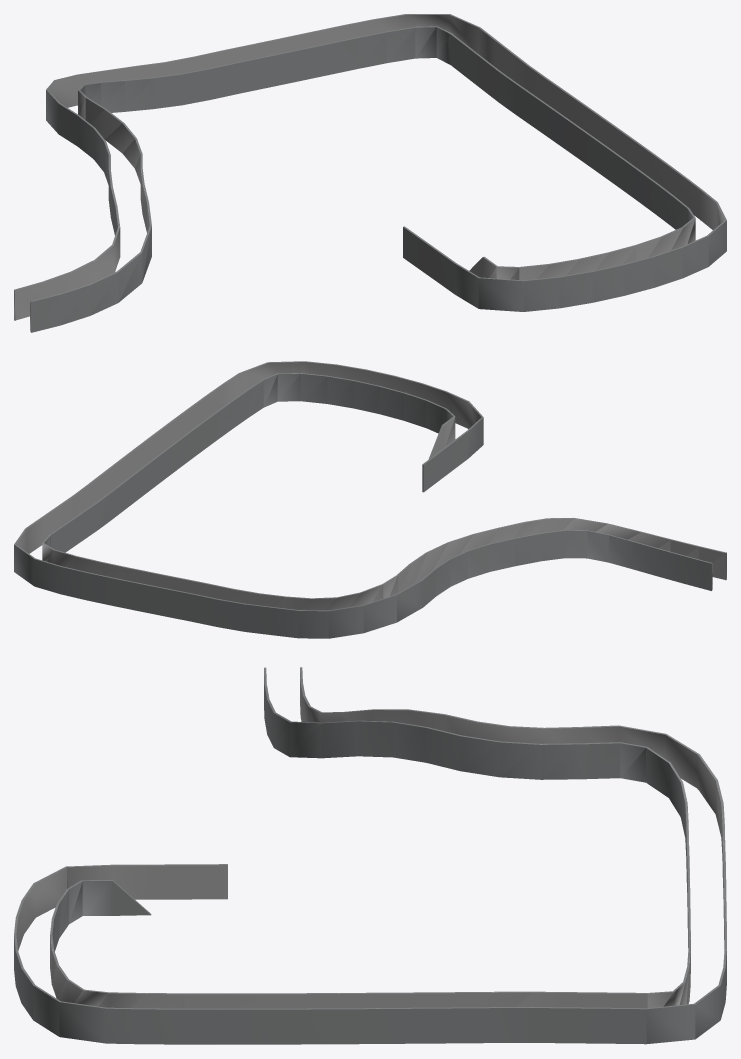
The model's file is parte muro.fbx.
The picture shows the model from 3 angles, top to bottom: view 1: azimuth 30°, elevation 25°; view 2: azimuth 150°, elevation 25°; view 3: azimuth 270°, elevation 25°; orthographic projection. The views are drawn at different scales.
Visible parts, largest first — view 1: NormalRoad_Clone__1.003; view 2: NormalRoad_Clone__1.003; view 3: NormalRoad_Clone__1.003.
Part boxes in pixels (x1,y1,x2,y2): NormalRoad_Clone__1.003: [14, 14, 726, 332]; NormalRoad_Clone__1.003: [14, 361, 726, 638]; NormalRoad_Clone__1.003: [14, 667, 726, 1044].
Bounding box in the file's own units: 10275 × 1105 × 9042.
Materials: 1 (1 with a texture image).
